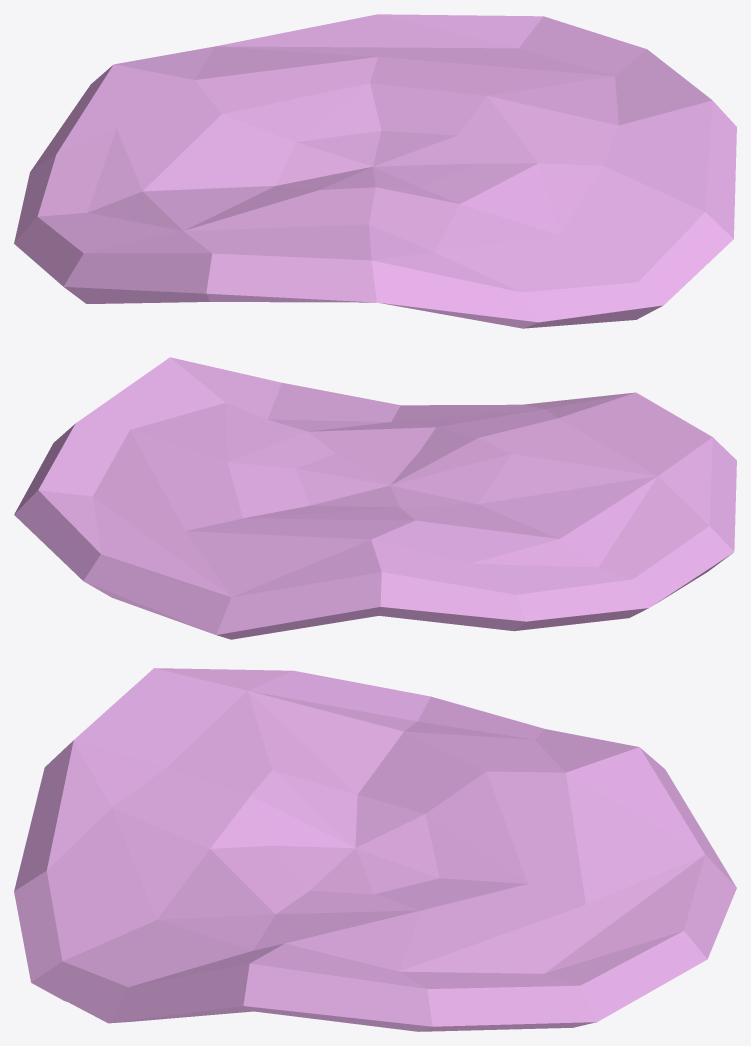
The model's file is Coral02.fbx.
The picture shows the model from 3 angles, top to bottom: view 1: azimuth 30°, elevation 25°; view 2: azimuth 150°, elevation 25°; view 3: azimuth 270°, elevation 25°; orthographic projection. The views are drawn at different scales.
Visible parts, largest first — view 1: Coral02; view 2: Coral02; view 3: Coral02.
Boxes of the visible parts, x1,y1,x2,y2 form: Coral02: (14, 14, 736, 328); Coral02: (14, 357, 736, 639); Coral02: (14, 668, 736, 1031).
Bounding box in the file's own units: 3.03 × 0.5533 × 2.67.
